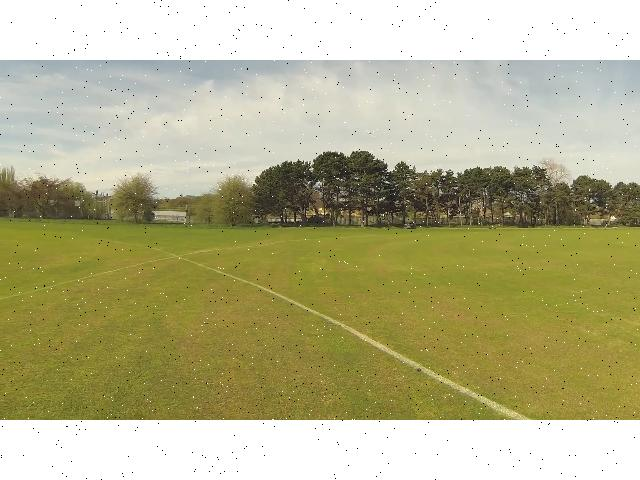Anti-Drone: (363, 128, 381, 140)
